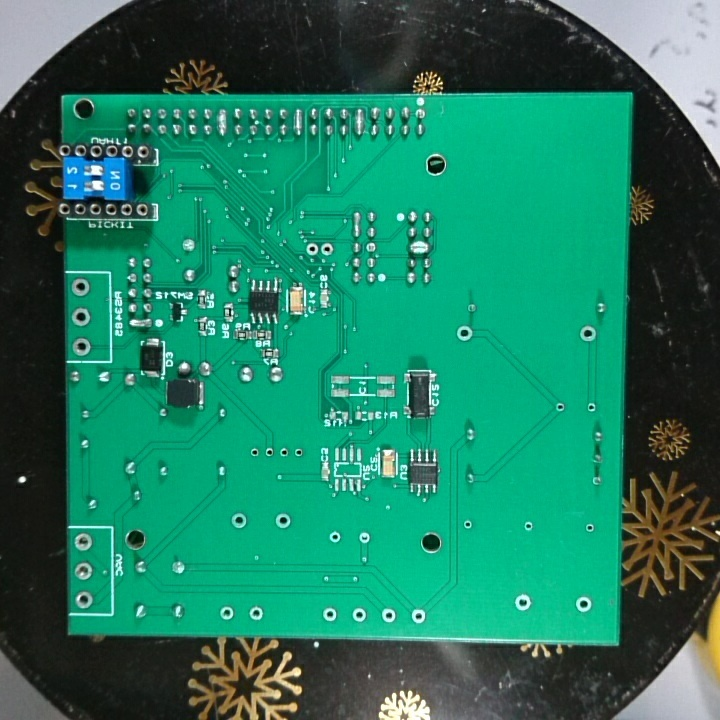F: (71, 529, 98, 555), (69, 305, 96, 329), (68, 335, 95, 358), (509, 591, 535, 614), (571, 592, 595, 616), (69, 275, 93, 299), (227, 508, 252, 531), (72, 586, 97, 609), (578, 320, 599, 347), (73, 559, 96, 583), (272, 510, 294, 535), (167, 555, 190, 578), (178, 234, 199, 257), (216, 603, 236, 627), (407, 605, 428, 626), (453, 323, 476, 342), (379, 603, 398, 626), (348, 603, 367, 626), (245, 603, 267, 621), (588, 472, 607, 492), (320, 602, 339, 622), (520, 517, 538, 538), (582, 518, 599, 540), (325, 526, 343, 546), (302, 240, 319, 260), (319, 240, 336, 260), (464, 298, 481, 317), (260, 443, 276, 463), (551, 398, 567, 417), (583, 398, 598, 418), (276, 443, 291, 463), (412, 106, 429, 123), (356, 530, 373, 547), (460, 517, 476, 535), (290, 443, 304, 463), (364, 239, 381, 255), (248, 445, 262, 460)
P: (213, 105, 230, 140), (352, 105, 367, 141), (125, 315, 153, 332), (349, 209, 364, 240), (406, 238, 431, 256), (291, 107, 304, 139)
